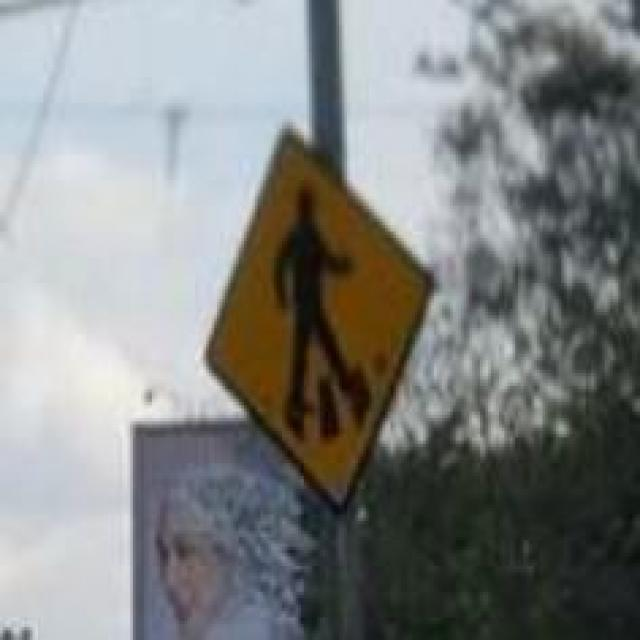traffic sign: (209, 126, 428, 499)
